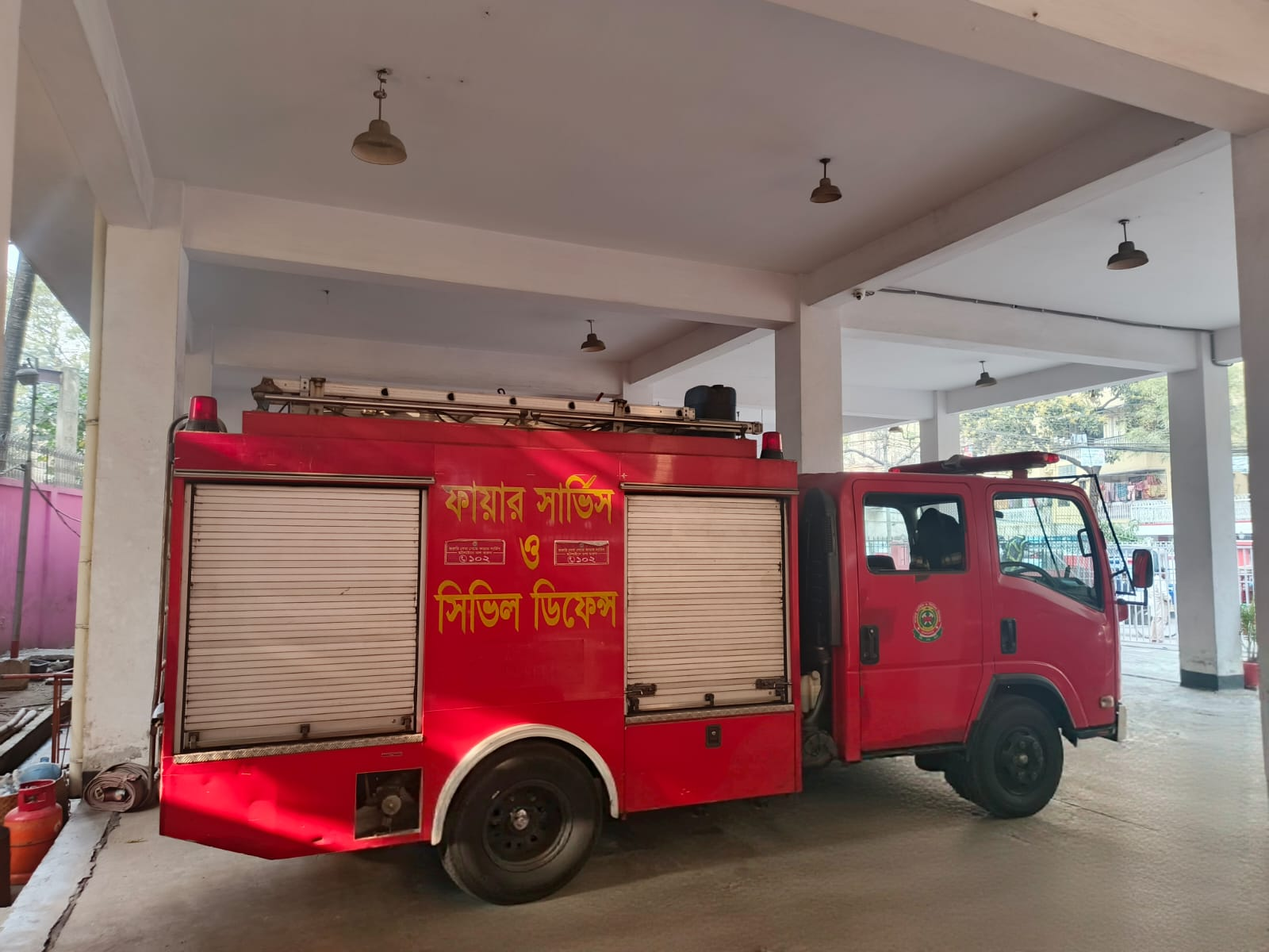Fire truck: (119, 346, 1193, 938)
